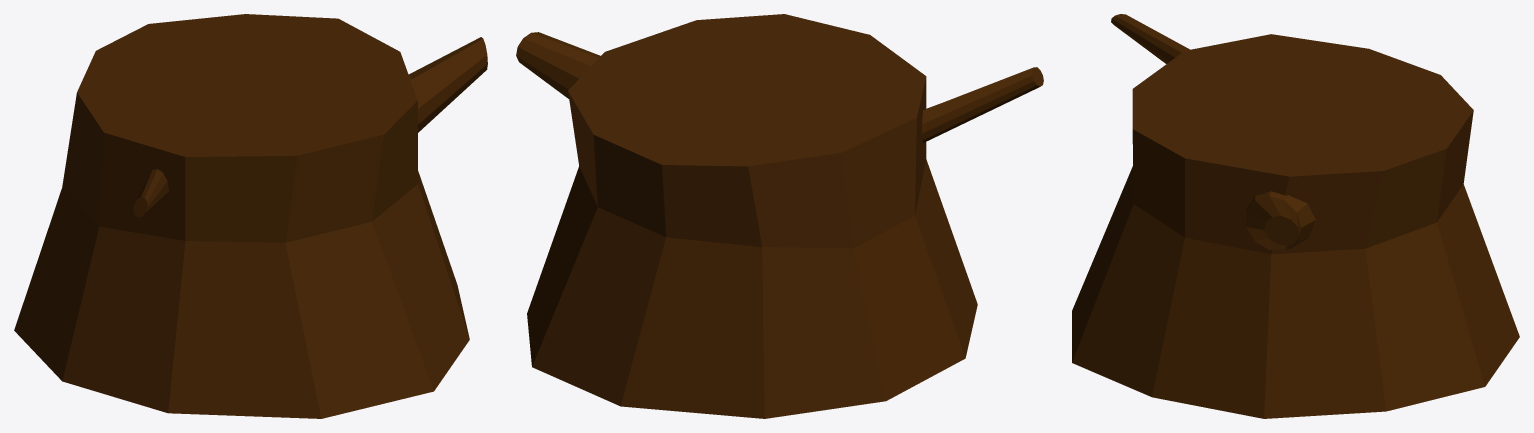
File: tree_stump_variant1.fbx
3 renders of one model, left to right at view 1: azimuth 30°, elevation 25°; view 2: azimuth 150°, elevation 25°; view 3: azimuth 270°, elevation 25°, orthographic. The views are drawn at different scales.
Parts seen in each view (by area): view 1: Cylinder.001, Cylinder.004, Cylinder.002; view 2: Cylinder.001, Cylinder.002, Cylinder.004; view 3: Cylinder.001, Cylinder.004, Cylinder.002.
Boxes of the visible parts, x1,y1,x2,y2 form: Cylinder.001: (14,14,469,418); Cylinder.004: (408,37,487,132); Cylinder.002: (133,169,168,217); Cylinder.001: (527,14,977,418); Cylinder.002: (922,67,1043,142); Cylinder.004: (516,32,600,98); Cylinder.001: (1072,34,1519,418); Cylinder.004: (1246,191,1315,250); Cylinder.002: (1111,14,1189,63).
Size of the model in its own units: 62.12 by 32.45 by 58.04.
